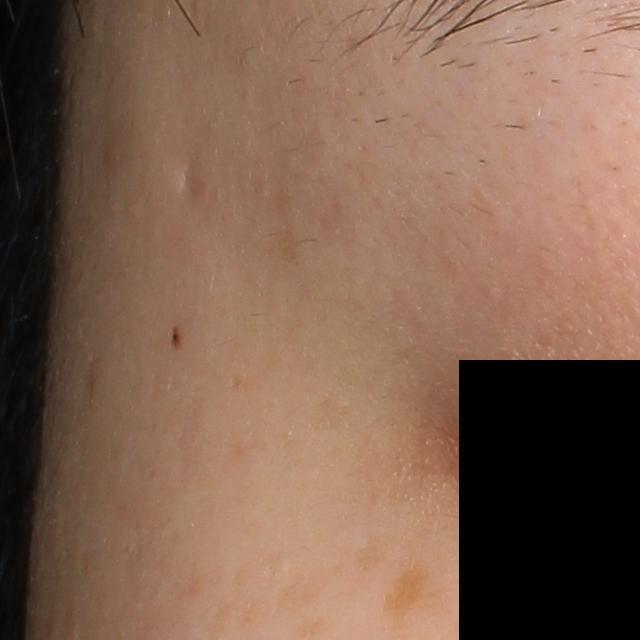atrophic_scar: (173, 149, 198, 206)
melasma: (270, 553, 339, 625), (382, 560, 443, 617), (353, 534, 398, 579)
